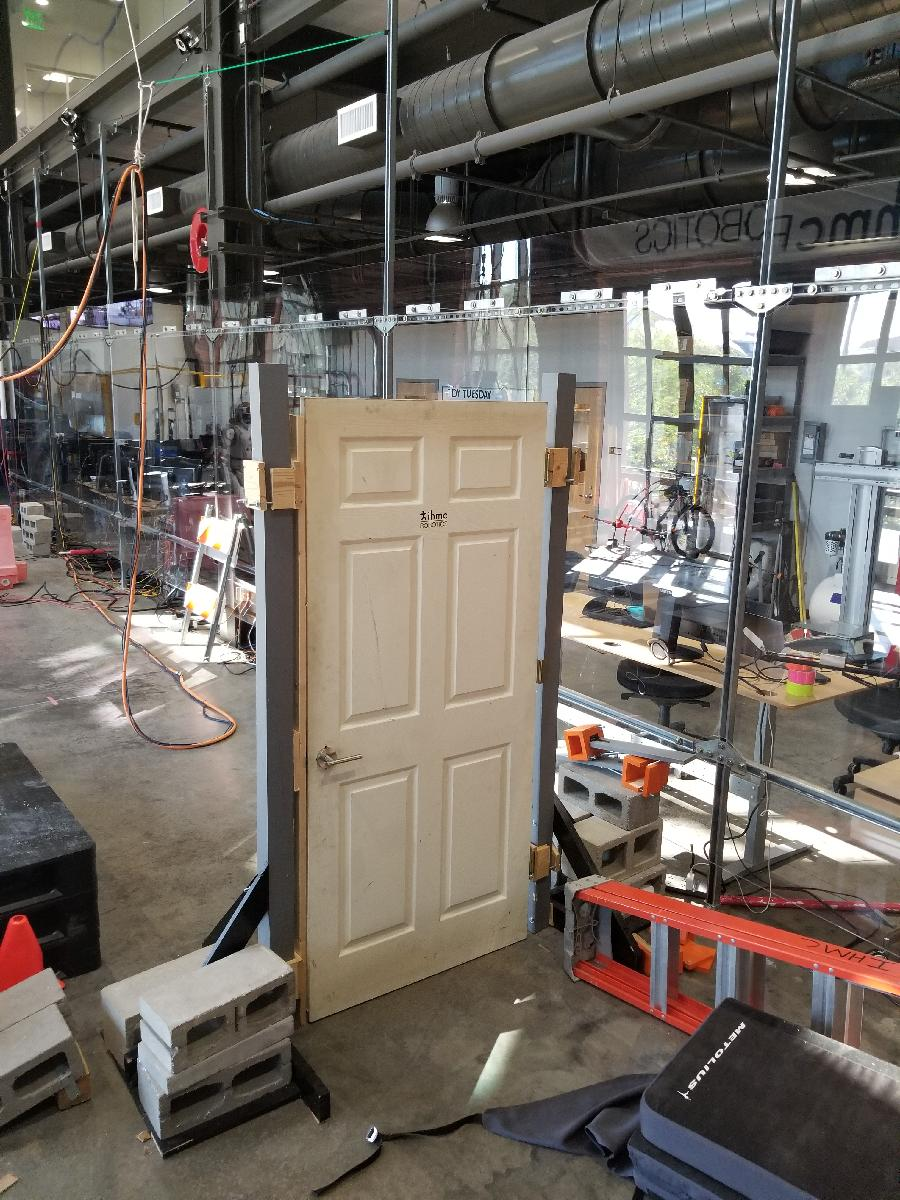door: (295, 394, 553, 1019)
doorHandle: (315, 736, 367, 775)
